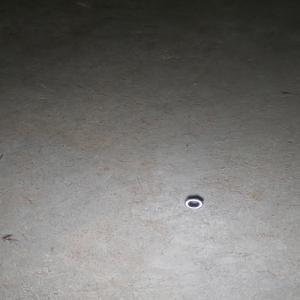Nut: (184, 197, 203, 209)
